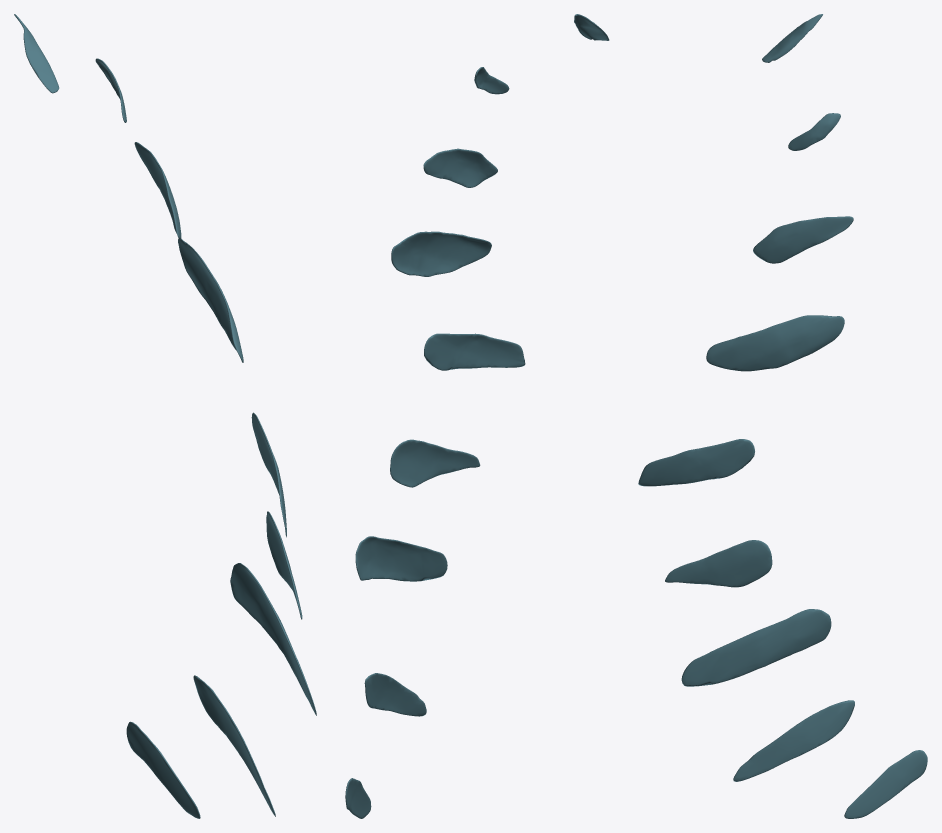
Rendered from Serratus_anterior_muscle-Thoracic_insertions.l_Generated_Mesh_F.glb.
3 renders of one model, left to right at view 1: azimuth 30°, elevation 25°; view 2: azimuth 150°, elevation 25°; view 3: azimuth 270°, elevation 25°, orthographic. The views are drawn at different scales.
Parts seen in each view (by area): view 1: Serratus_anterior_muscle-Thoracic_insertions.l_Generated_Mes; view 2: Serratus_anterior_muscle-Thoracic_insertions.l_Generated_Mes; view 3: Serratus_anterior_muscle-Thoracic_insertions.l_Generated_Mes.
Part boxes in pixels (x1=…): Serratus_anterior_muscle-Thoracic_insertions.l_Generated_Mes: x1=14, y1=14, x2=316, y2=818; Serratus_anterior_muscle-Thoracic_insertions.l_Generated_Mes: x1=345, y1=14, x2=609, y2=818; Serratus_anterior_muscle-Thoracic_insertions.l_Generated_Mes: x1=638, y1=14, x2=927, y2=818.
Bounding box in the file's own units: 0.0773 × 0.266 × 0.0964.
